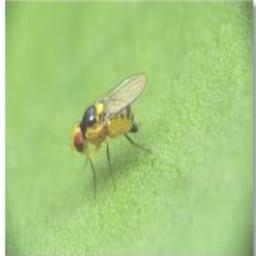liriomyza: (64, 71, 148, 196)
